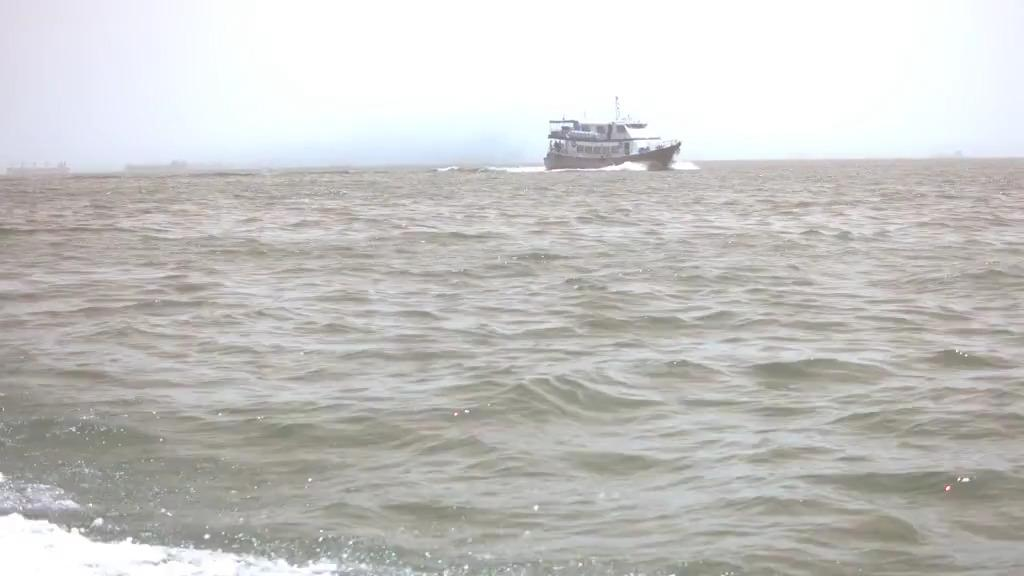PassengerShip: (540, 88, 686, 172)
